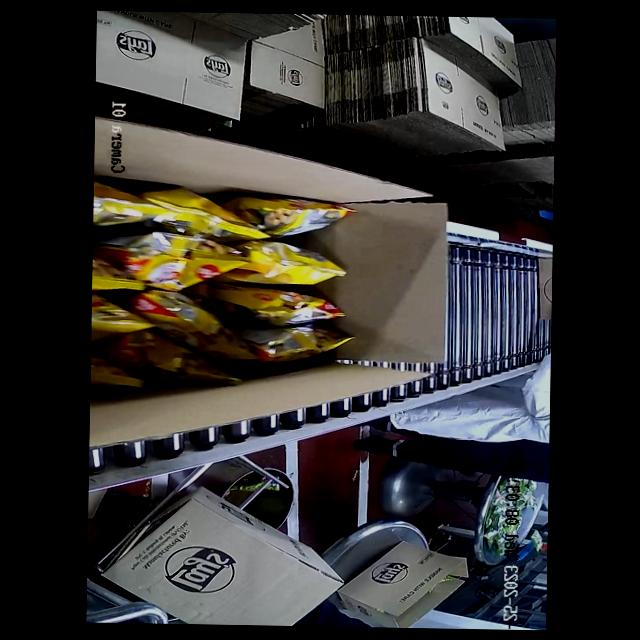salted: (89, 199, 356, 375)
